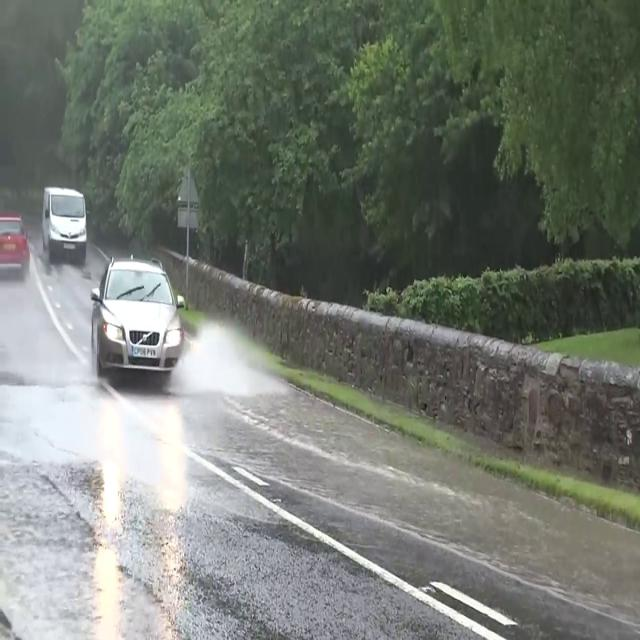license-plate-annotation: (124, 342, 160, 358)
